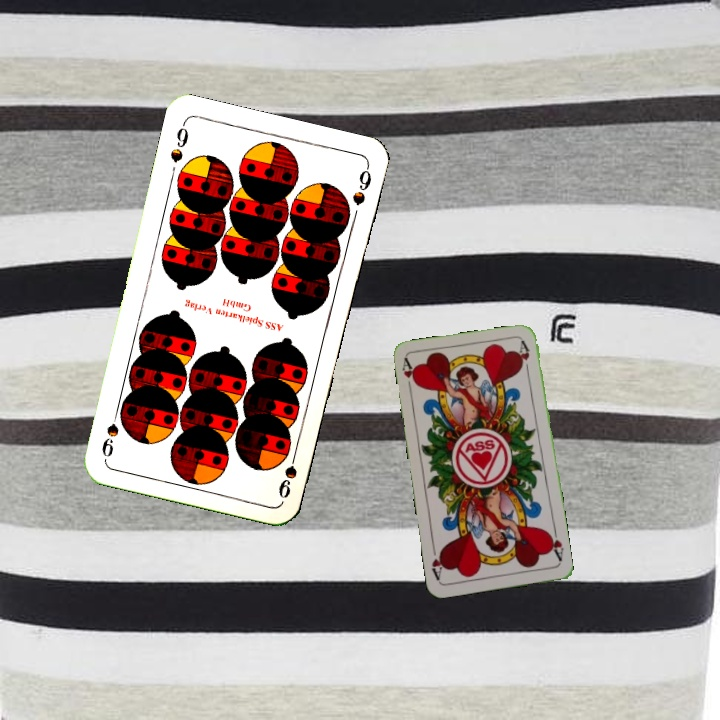HA: (398, 355, 420, 396), (544, 524, 566, 564)
S9: (274, 443, 301, 500), (166, 118, 191, 165)
